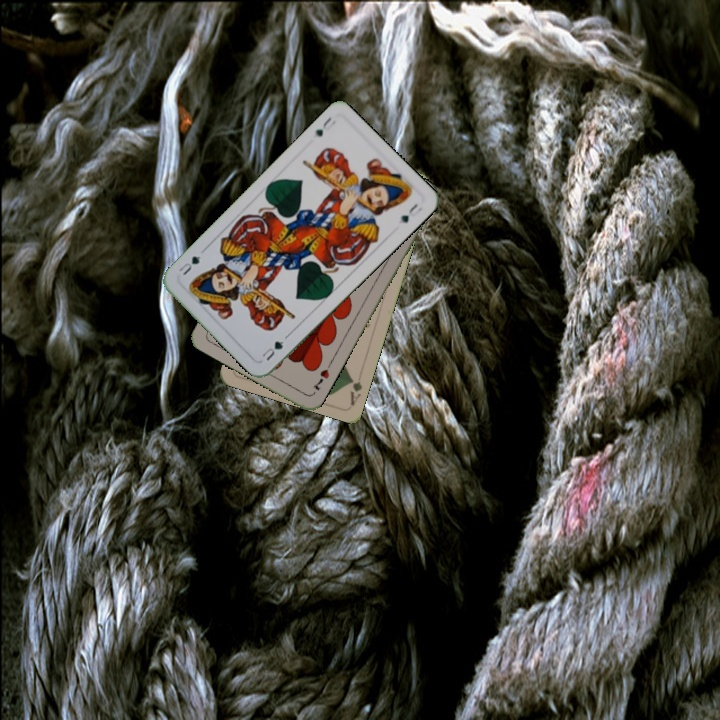GA: (346, 374, 365, 407)
GU: (258, 337, 286, 364), (311, 113, 338, 139)
H7: (308, 365, 332, 393)
